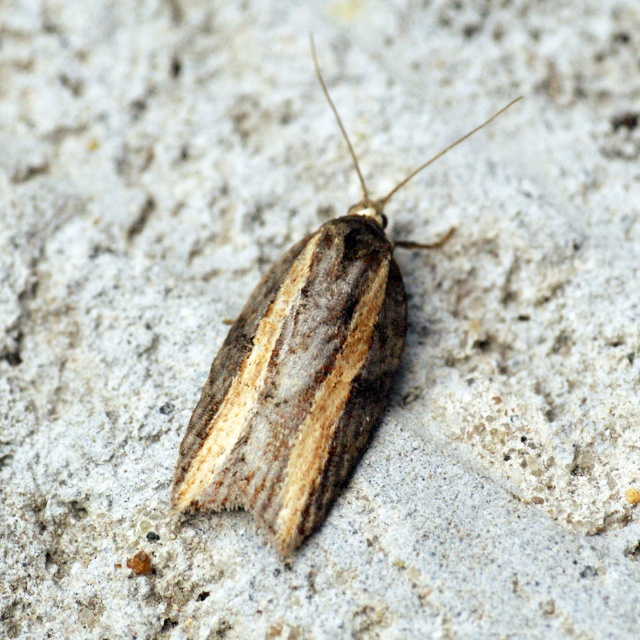Moths and butterflies: (167, 27, 530, 554)
